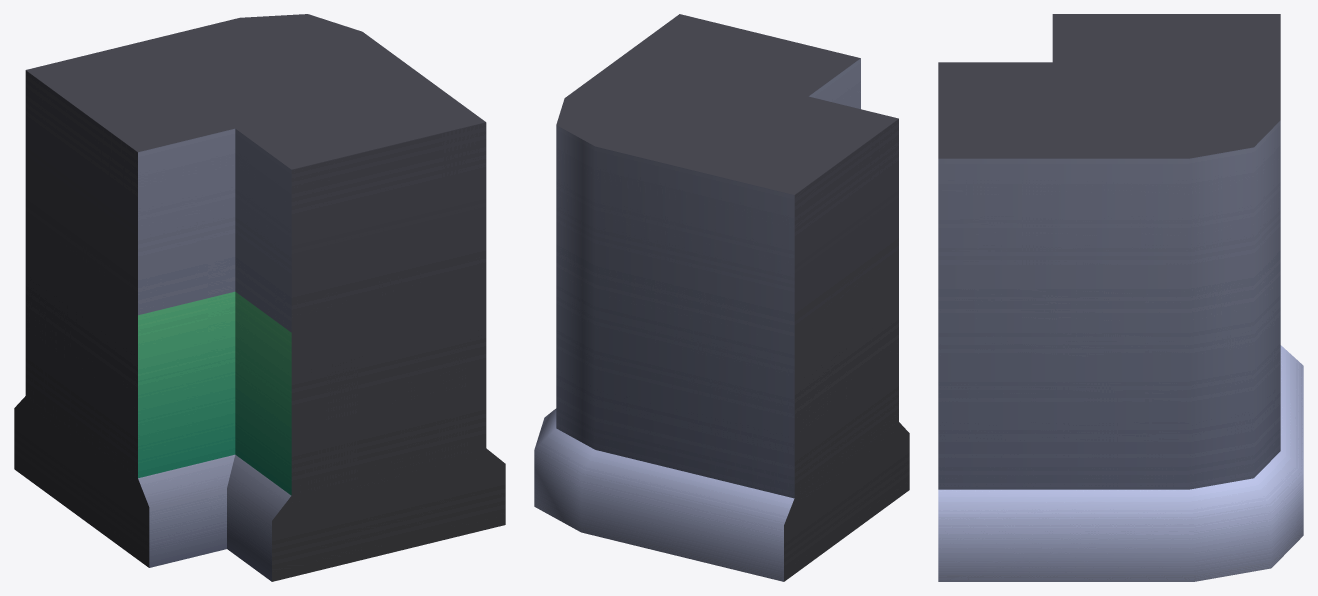
Rendered from wall-corner.glb.
The picture shows the model from 3 angles, left to right: view 1: azimuth 30°, elevation 25°; view 2: azimuth 150°, elevation 25°; view 3: azimuth 270°, elevation 25°; orthographic projection. The views are drawn at different scales.
Visible parts, largest first — view 1: wall-corner; view 2: wall-corner; view 3: wall-corner.
Part boxes in pixels (left/top/right/bottom): wall-corner: left=14, top=14, right=505, bottom=581; wall-corner: left=534, top=14, right=909, bottom=581; wall-corner: left=938, top=14, right=1303, bottom=581.
Size of the model in its own units: 0.8 by 1 by 0.8.
1 material, 1 textured.
